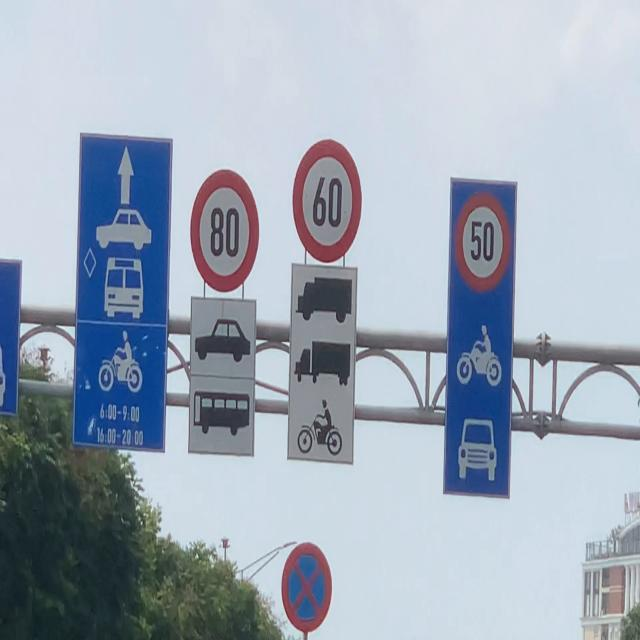Cam dung va do: (281, 542, 332, 634)
Toc do toi da: (190, 168, 260, 292), (292, 139, 362, 263), (455, 192, 511, 292)
